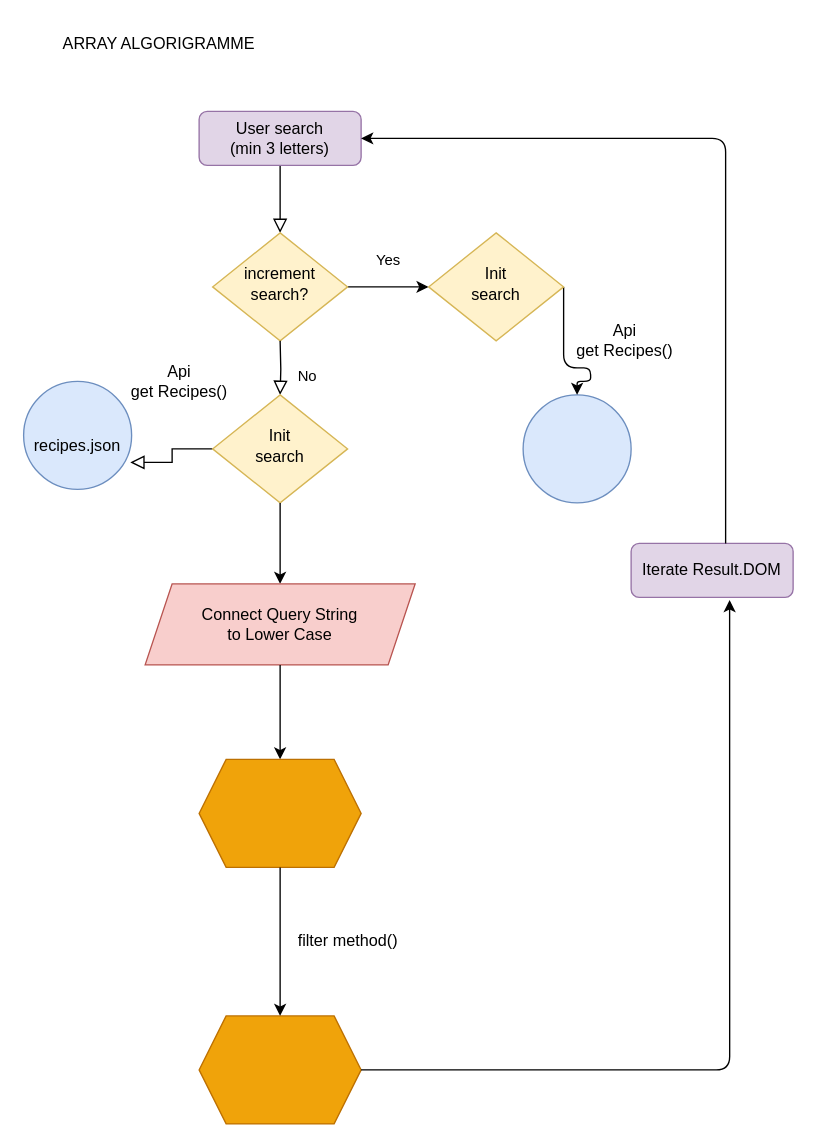
Image size: 817x1148. Some labels were removed from this diagram. Here are the shapes that lost their labels. From the top down, the box of each, then its label:
(522, 394, 631, 503): RECIPES from initial search
(198, 758, 361, 867): OBJECT RECIPES
(198, 1015, 361, 1124): OBJECT RESULTS
